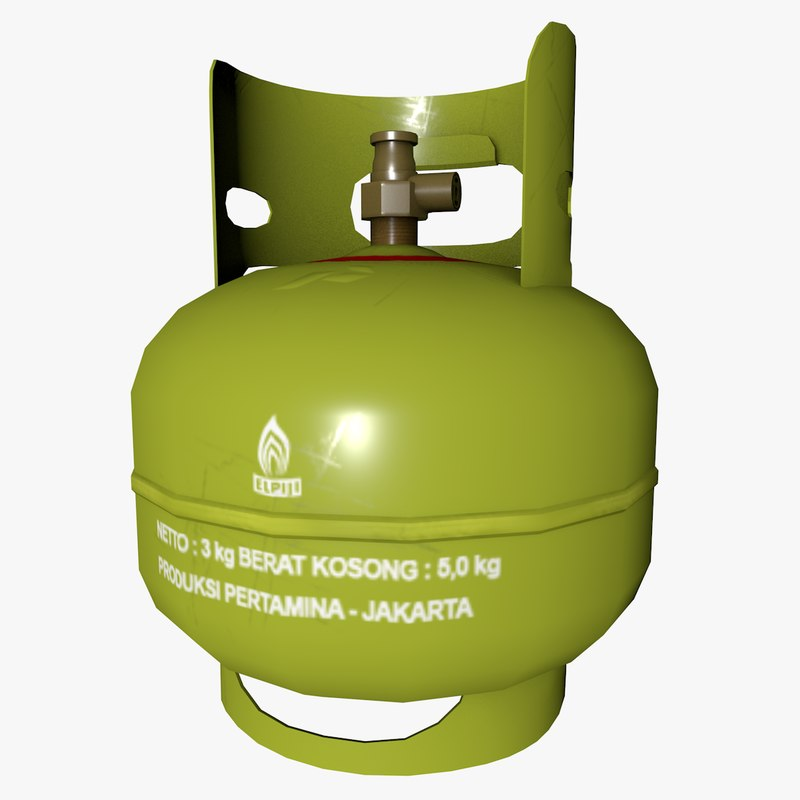gas_ijo: (132, 21, 659, 779)
